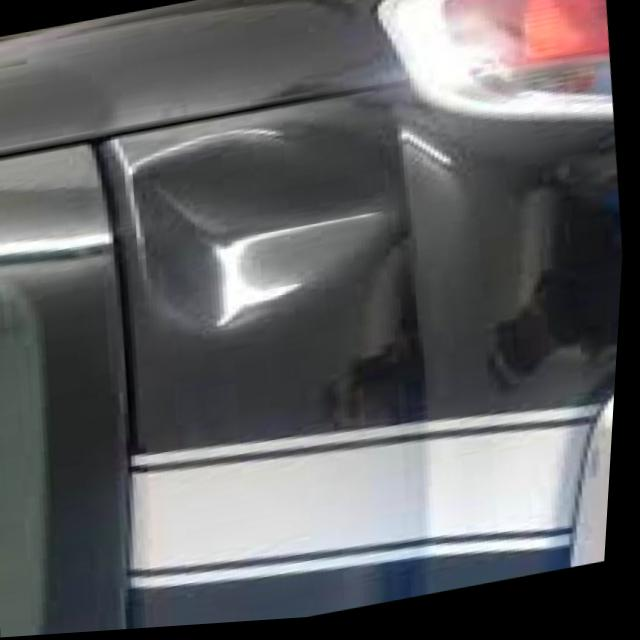Dent: (119, 104, 407, 345)
